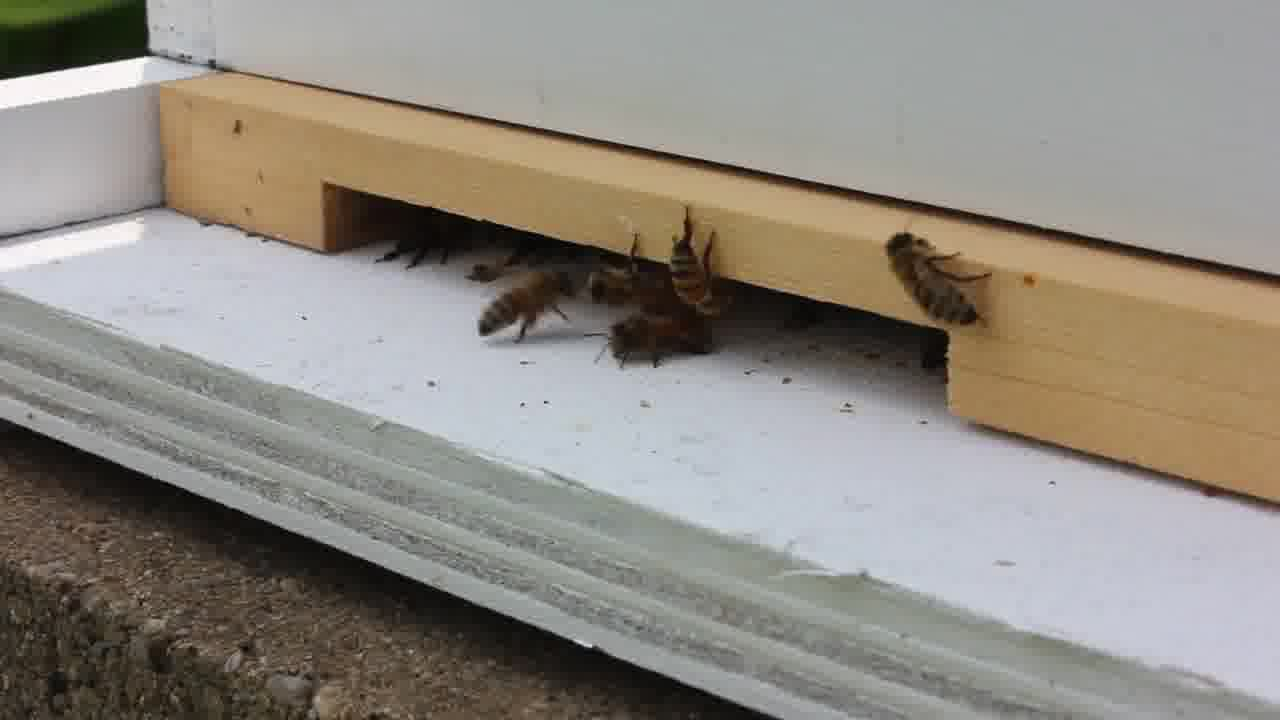pollen: (471, 264, 578, 348)
